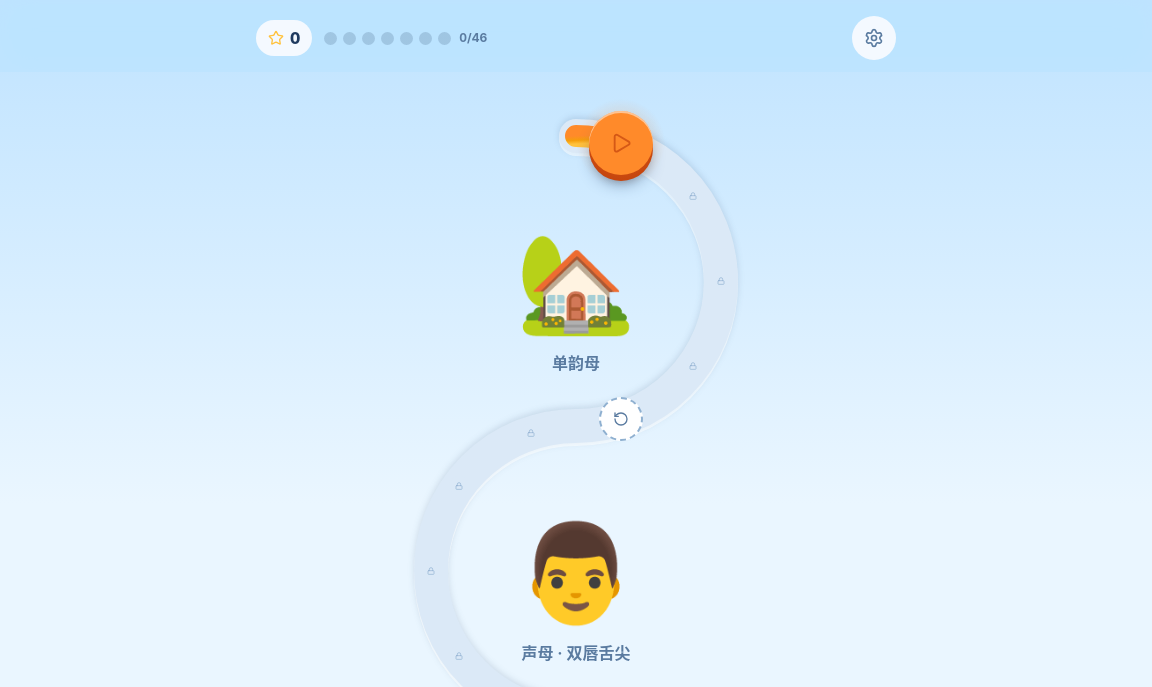
Test: App 路由 › path → parent → path:家长面板开合
Step 1. Click the button named "家长" → click(874, 38), box [852,16,896,60]
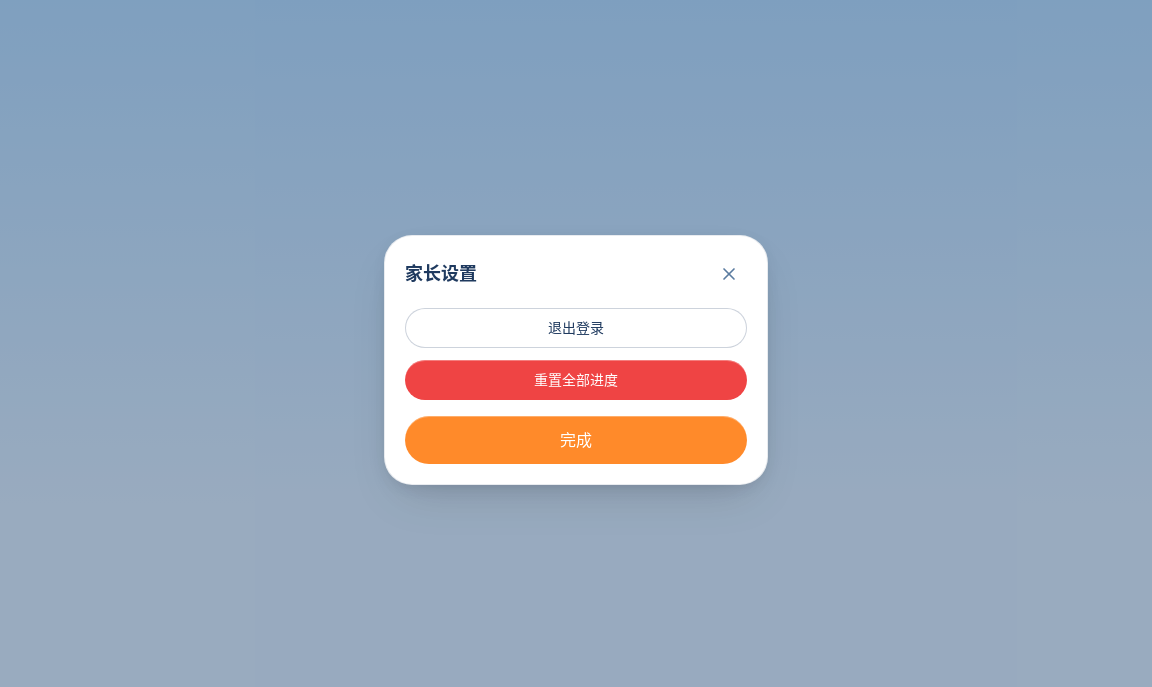
expect the heading "家长设置" is shown: met, box [405,260,477,288]
Step 2. Click the button "完成" → click(576, 440), box [405,416,747,464]
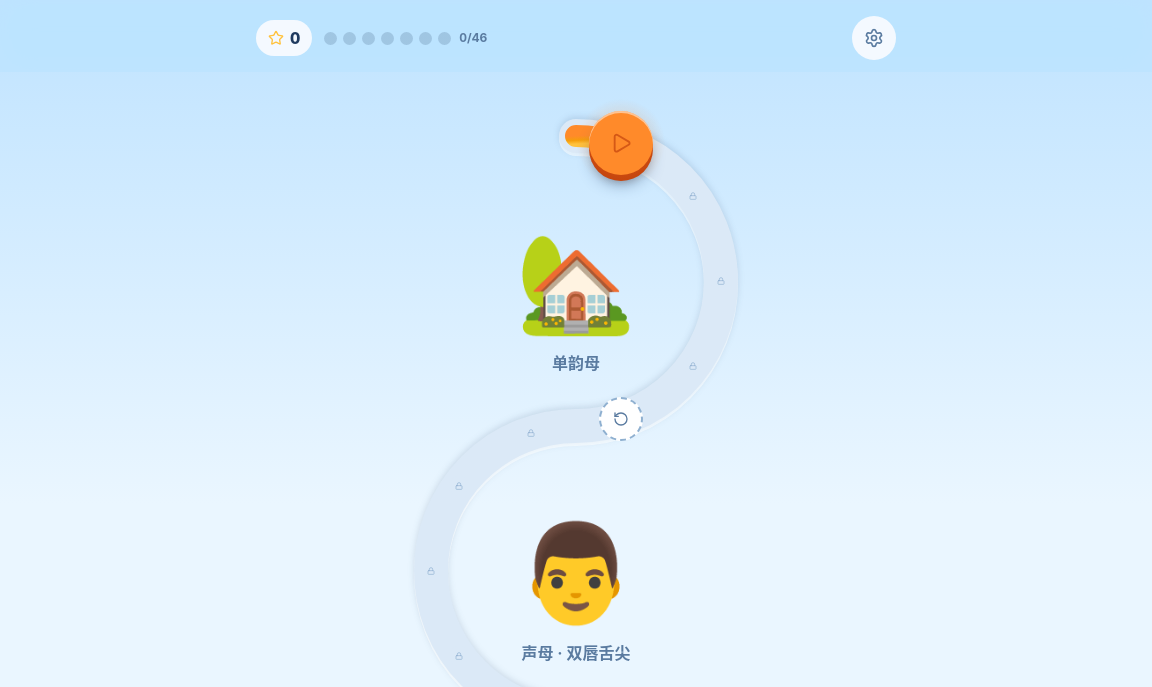
expect the button named "家长" is shown: met, box [852,16,896,60]
